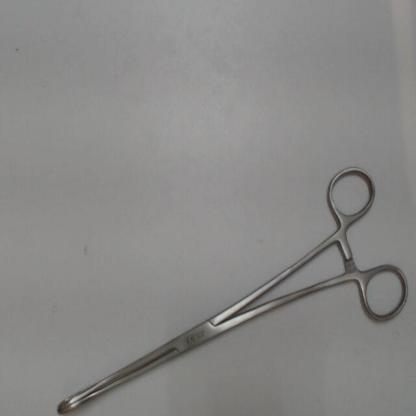Sponge Forceps: (43, 155, 414, 415)
